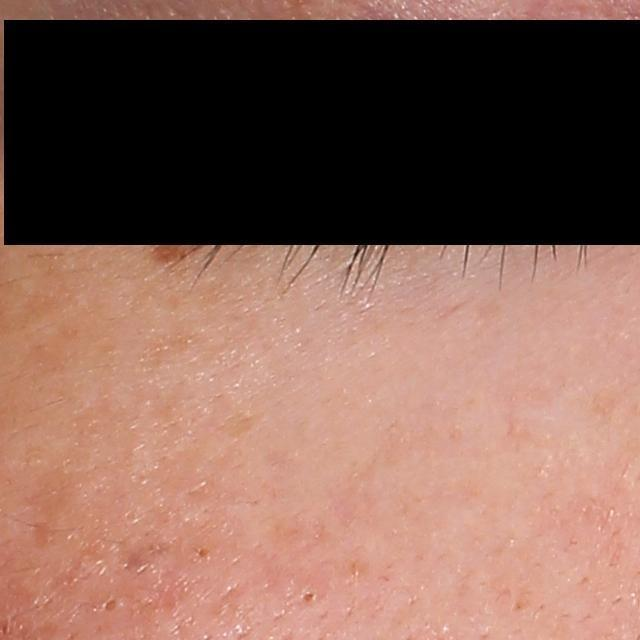comedo: (99, 595, 121, 617), (298, 589, 319, 607), (194, 544, 212, 563)
melasma: (139, 225, 226, 269)
